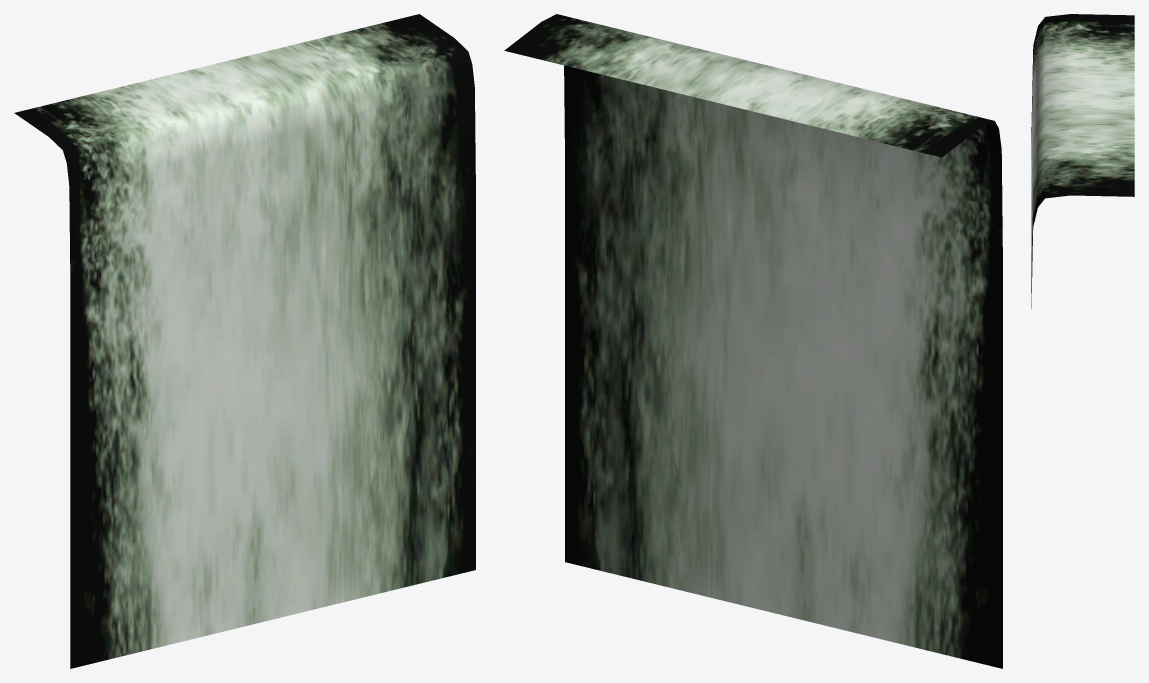
The model's file is changjing_shui_03_vfx.FBX.
The picture shows the model from 3 angles, left to right: view 1: azimuth 30°, elevation 25°; view 2: azimuth 150°, elevation 25°; view 3: azimuth 270°, elevation 25°; orthographic projection. The views are drawn at different scales.
Visible parts, largest first — view 1: Zjfb_shui_005; view 2: Zjfb_shui_005; view 3: Zjfb_shui_005.
Part boxes in pixels (x1,y1,x2,y2): Zjfb_shui_005: (14, 14, 475, 668); Zjfb_shui_005: (504, 14, 1002, 668); Zjfb_shui_005: (1031, 14, 1134, 308).
Size of the model in its own units: 10.34 by 12.57 by 2.49.
Materials: 1 (1 with a texture image).
